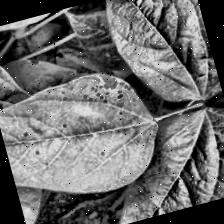ALS: (0, 62, 169, 210)
